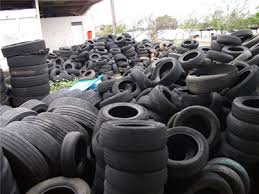tire: (153, 125, 210, 178), (99, 117, 169, 151), (174, 106, 221, 152), (101, 163, 167, 192), (100, 145, 171, 171), (96, 100, 153, 129), (218, 64, 258, 101), (60, 129, 89, 178), (24, 173, 90, 194), (145, 58, 184, 86), (110, 75, 149, 102), (229, 90, 259, 120), (174, 46, 207, 69), (222, 44, 251, 63)
